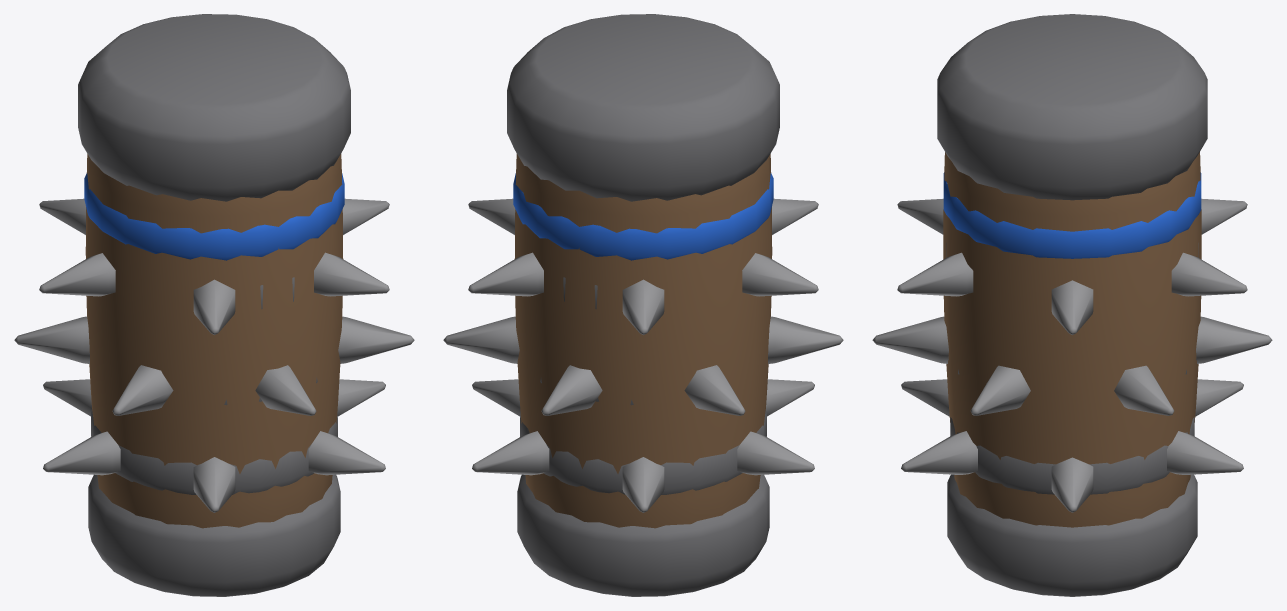
File: Kit_Limb_Spiked_S.glb
3 renders of one model, left to right at view 1: azimuth 30°, elevation 25°; view 2: azimuth 150°, elevation 25°; view 3: azimuth 270°, elevation 25°, orthographic.
Visible parts, largest first — view 1: Kit_Limb_Spiked_S; view 2: Kit_Limb_Spiked_S; view 3: Kit_Limb_Spiked_S.
Boxes of the visible parts, x1=… form: Kit_Limb_Spiked_S: x1=14, y1=14, x2=414, y2=596; Kit_Limb_Spiked_S: x1=443, y1=14, x2=843, y2=596; Kit_Limb_Spiked_S: x1=872, y1=14, x2=1272, y2=596.
Size of the model in its own units: 0.1858 by 0.2488 by 0.1838.
